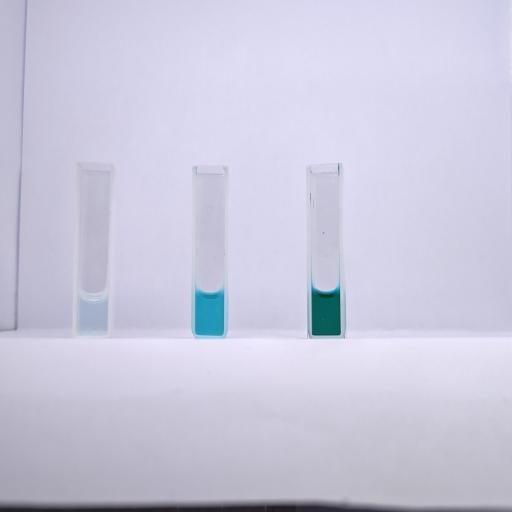cuvette: (304, 162, 350, 340), (72, 158, 117, 338), (190, 163, 230, 340)
liquid: (195, 289, 224, 335), (312, 289, 340, 335), (78, 291, 108, 333)
